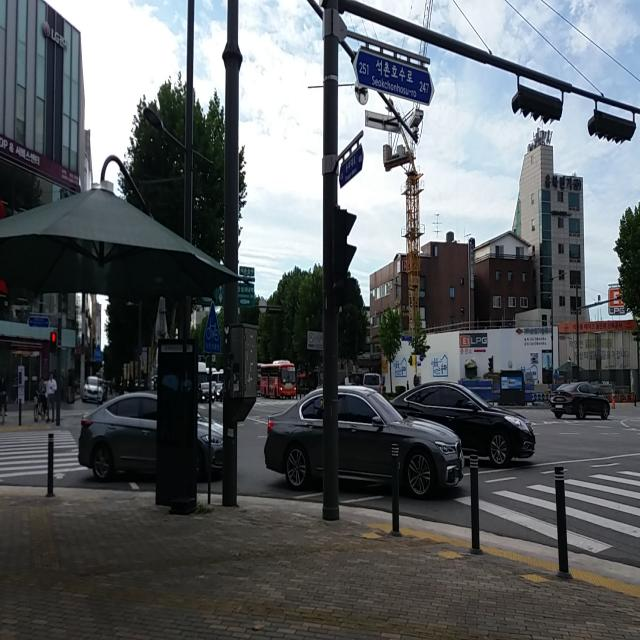횡단보도: (453, 404, 640, 572), (0, 429, 88, 482)
